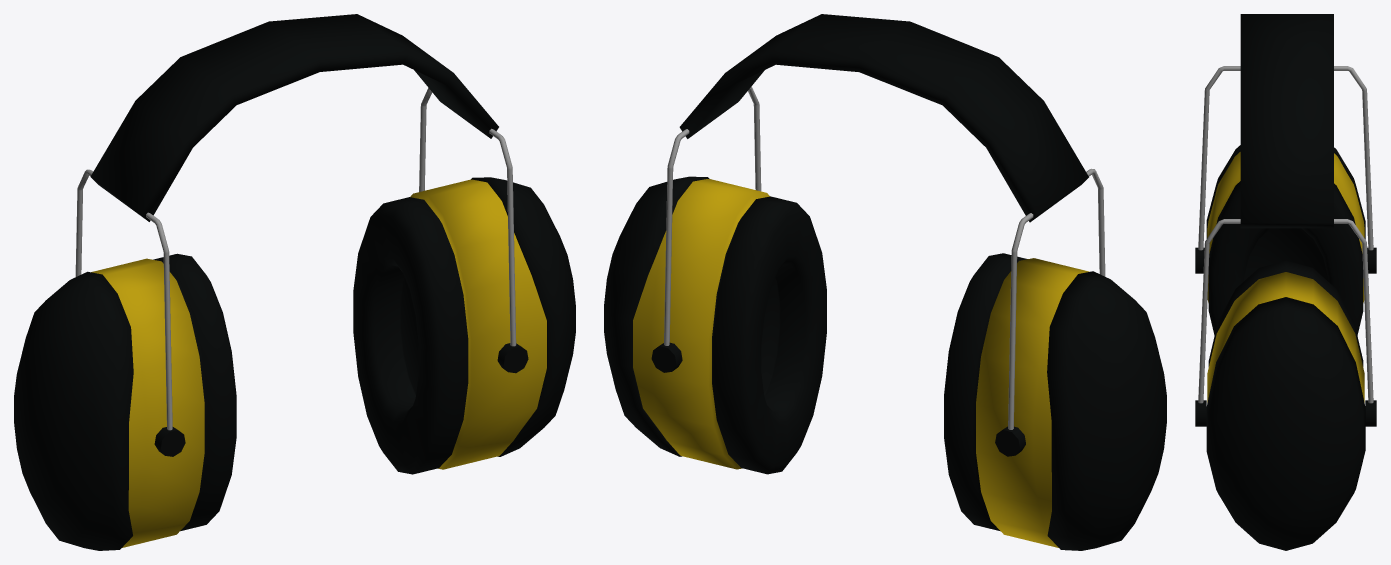
Rendered from EarProtection.fbx.
3 renders of one model, left to right at view 1: azimuth 30°, elevation 25°; view 2: azimuth 150°, elevation 25°; view 3: azimuth 270°, elevation 25°, orthographic. The views are drawn at different scales.
Visible parts, largest first — view 1: EarProtection_Right, EarProtection_Left, Ear Protection_Band; view 2: EarProtection_Right, EarProtection_Left, Ear Protection_Band; view 3: EarProtection_Right, Ear Protection_Band, EarProtection_Left.
Boxes of the visible parts, x1,y1,x2,y2 form: EarProtection_Right: [353, 177, 575, 474]; EarProtection_Left: [14, 253, 236, 550]; Ear Protection_Band: [75, 14, 516, 430]; EarProtection_Right: [604, 176, 826, 474]; EarProtection_Left: [944, 253, 1166, 550]; Ear Protection_Band: [664, 14, 1105, 429]; EarProtection_Right: [1195, 260, 1376, 550]; Ear Protection_Band: [1198, 14, 1373, 403]; EarProtection_Left: [1195, 145, 1376, 335].
Bounding box in the file's own units: 212 × 174 × 68.06.
